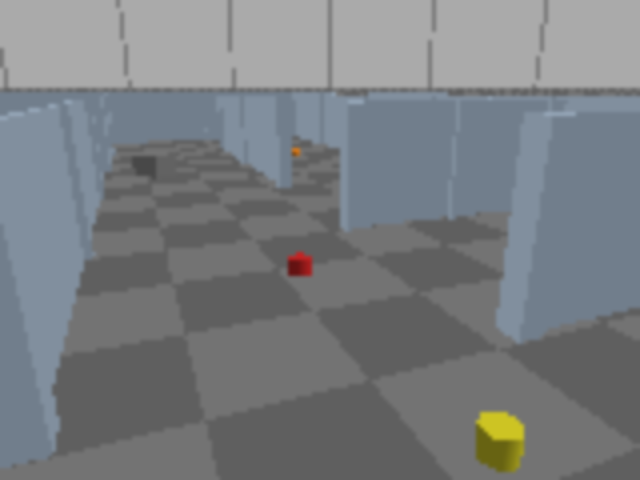puck: (476, 414, 525, 468), (289, 254, 310, 277)
